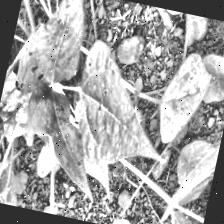ALS: (63, 38, 186, 178), (12, 0, 93, 99), (149, 46, 217, 150)
